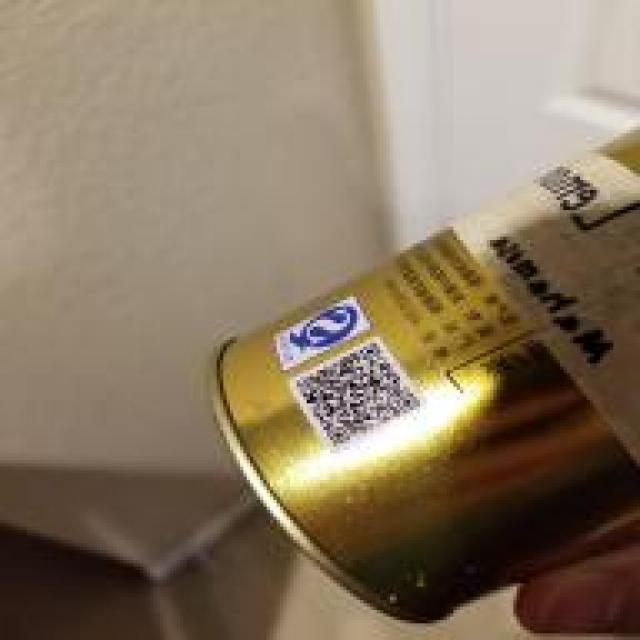qr_code: (294, 342, 419, 448)
